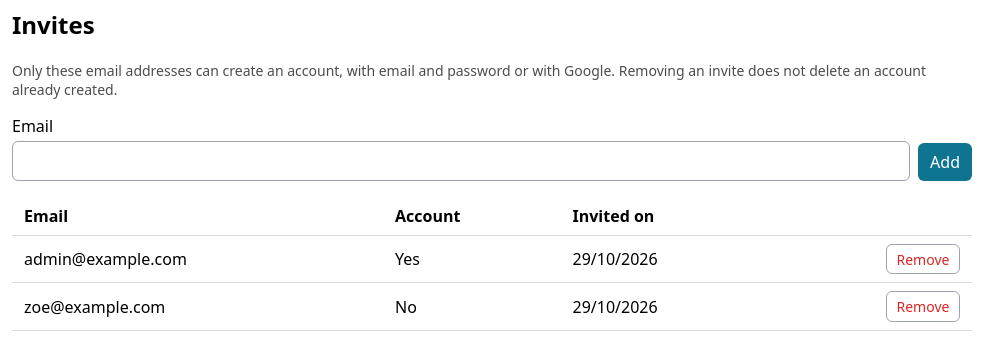
Test: InvitesPage › removes an invite after confirmation
The width and height of the screenshot is (989, 348).
Click the button with aria-label "Remove zoe@example.com" at [923, 307], box [886, 291, 960, 322]
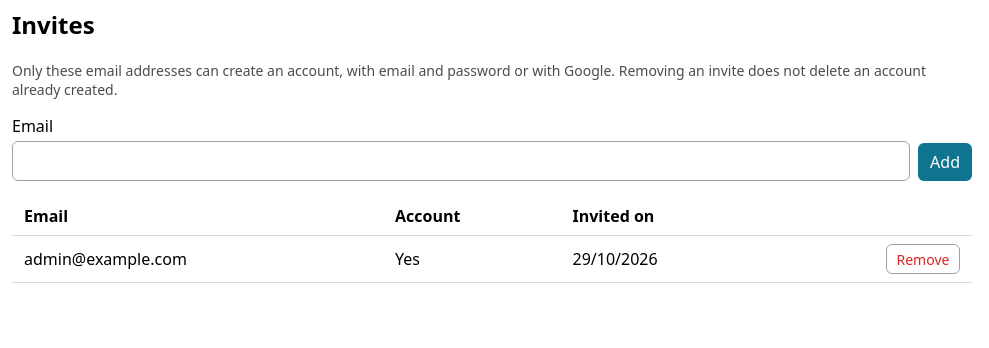
Expected: the text "zoe@example.com" is gone
